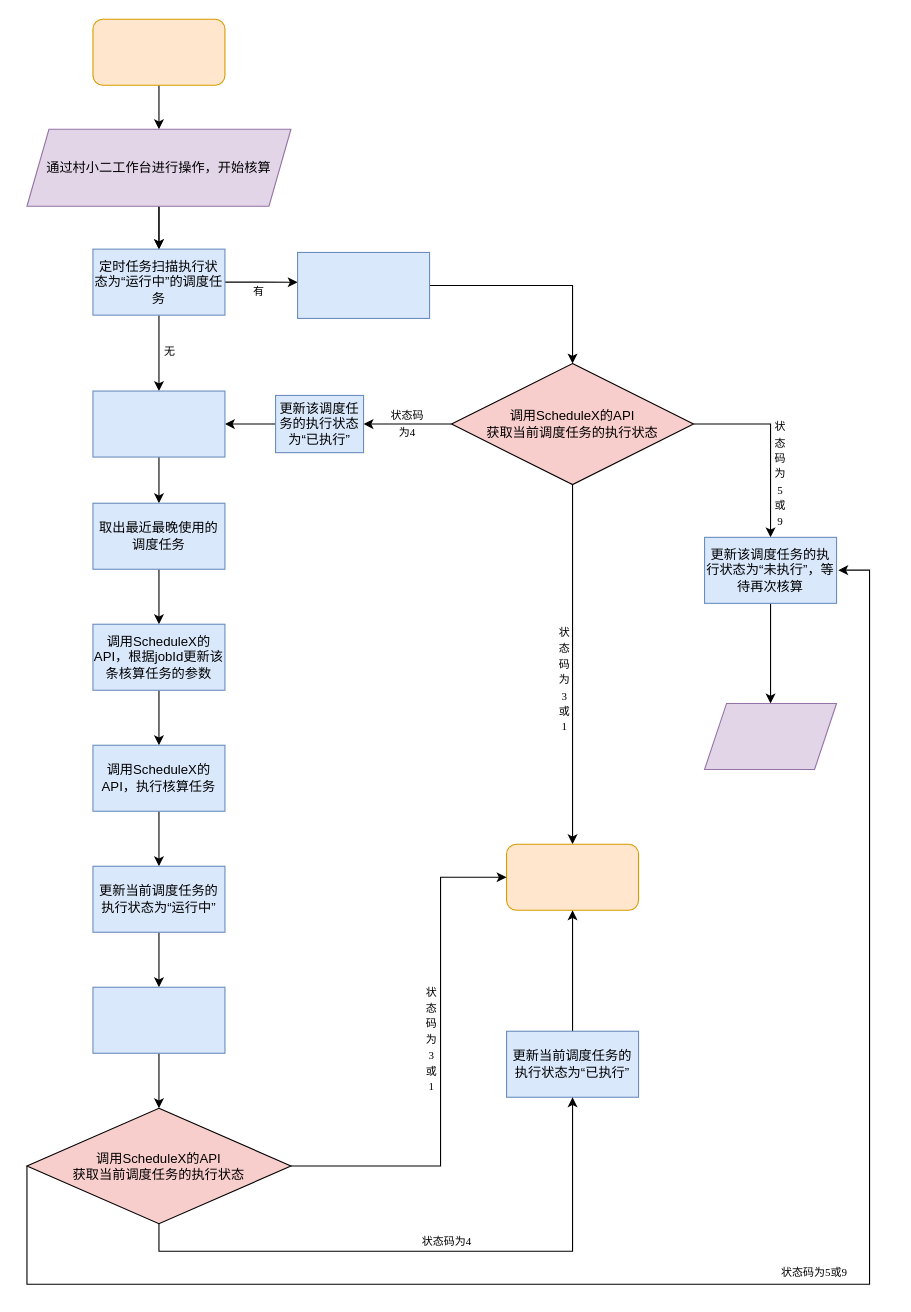
Image size: 911x1312. Some labels were removed from this diagram. Here are the shapes that lost their labels. From the top down, the centre of each, then its label:
[158,51]: 开始
[363,284]: 获取调度任务列表
[158,423]: 扫描执行状态为“待执行”的调度任务
[770,735]: 抛出异常
[572,876]: 结束此次调度
[158,1019]: 更新当前调度任务的实例ID、executeJobTs
